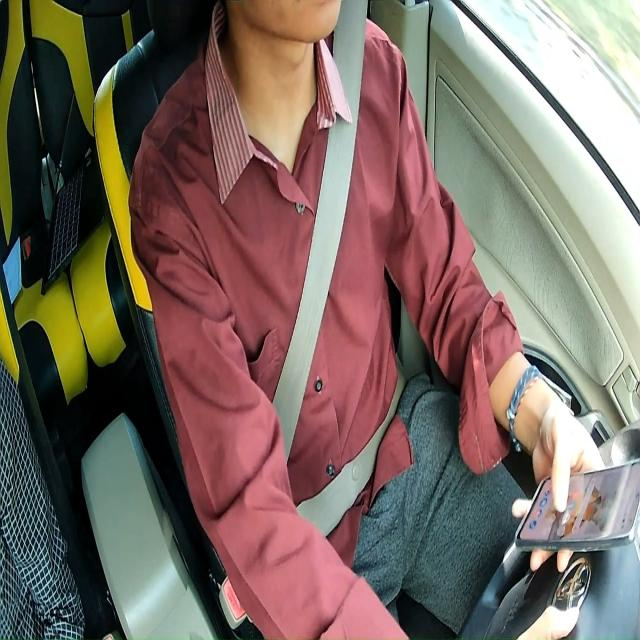phone: (514, 456, 640, 554)
